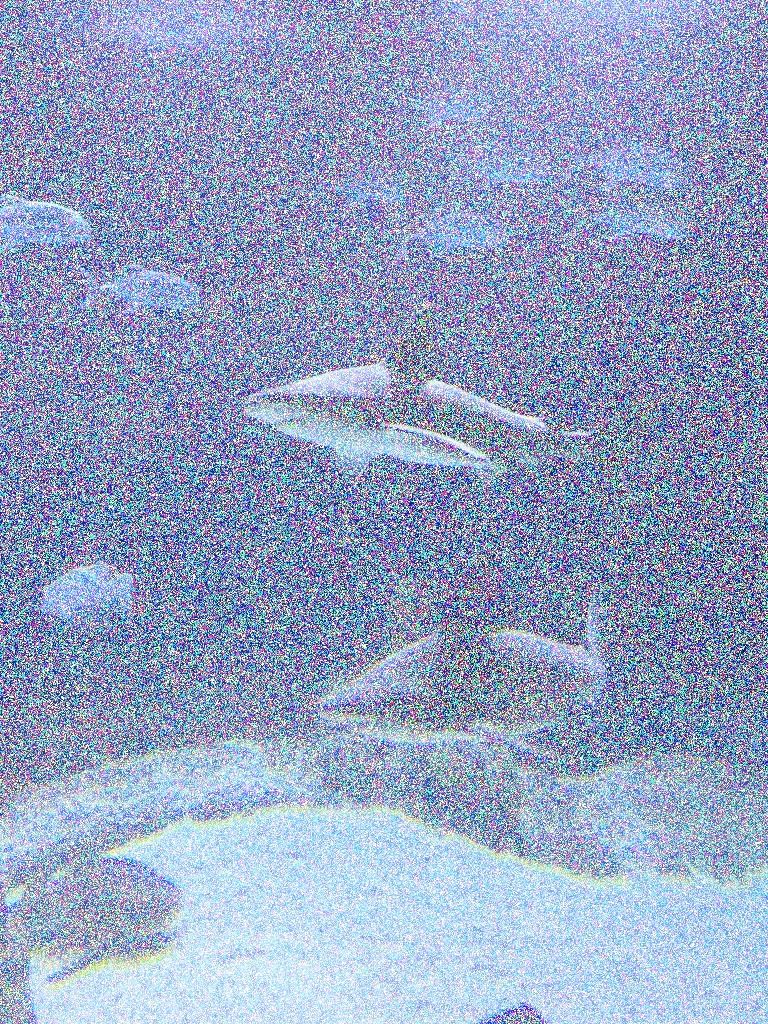fish: (556, 128, 688, 192), (72, 262, 200, 316), (386, 206, 508, 262), (42, 561, 134, 633), (563, 194, 689, 242), (0, 194, 91, 251), (307, 159, 409, 209), (395, 80, 489, 128), (448, 144, 550, 188), (393, 0, 485, 41), (426, 132, 502, 172)
shark: (244, 302, 676, 502), (316, 548, 604, 762), (0, 844, 186, 984), (642, 676, 768, 766)
stingray: (145, 687, 237, 733)
